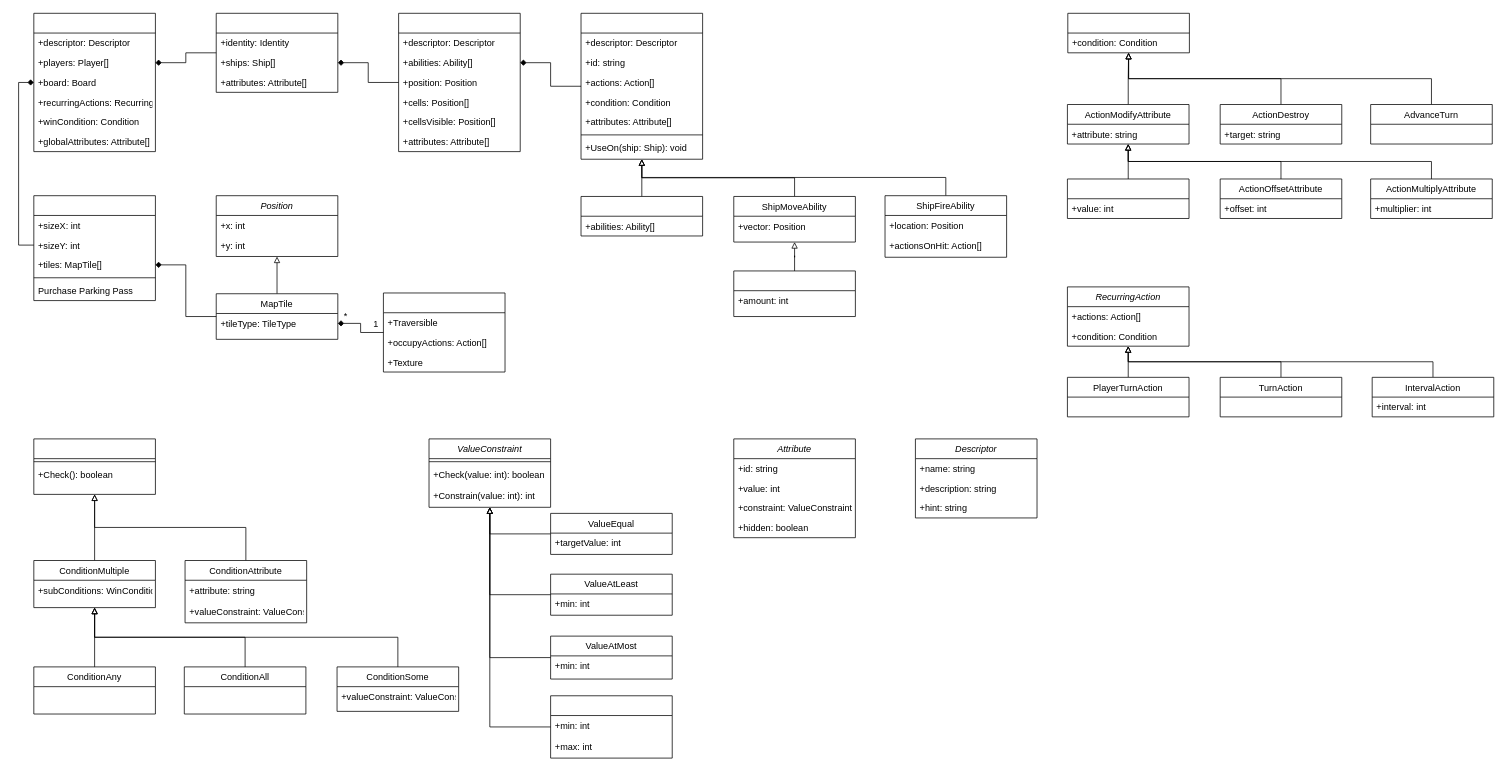
This 1507x774 diagram has some shape labels left out. The shapes that lost their labels are listed below. From the top down, each one's box as (x1, y1, x2, y2) in pixels, then its label:
(215, 13, 338, 92): Player
(1067, 13, 1189, 53): Action
(33, 13, 155, 152): Scenario
(398, 13, 520, 152): Ship
(580, 13, 703, 159): ShipAbility
(580, 196, 703, 236): ShipAbilityCollection
(1067, 178, 1189, 218): ActionSetAttribute
(33, 195, 155, 301): Board
(733, 270, 855, 317): ShipRotateAbility
(383, 292, 505, 372): TileType
(33, 438, 155, 494): Condition
(550, 695, 672, 758): ValueInRange
